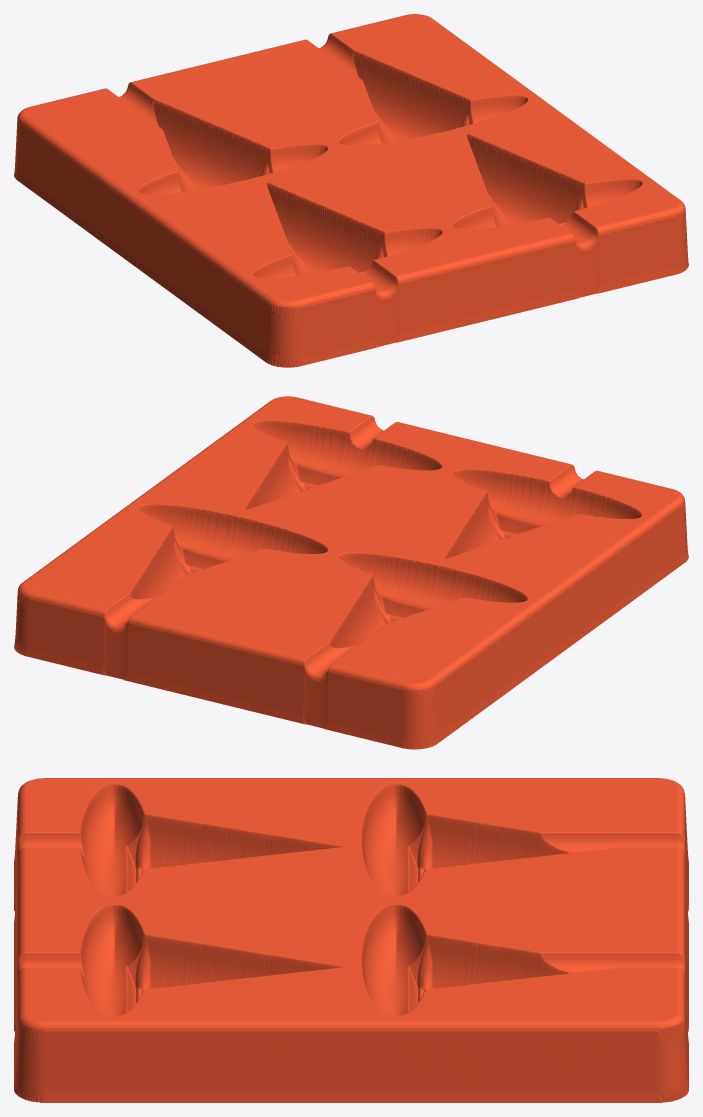
The model's file is mold.glb.
The picture shows the model from 3 angles, top to bottom: view 1: azimuth 30°, elevation 25°; view 2: azimuth 150°, elevation 25°; view 3: azimuth 270°, elevation 25°; orthographic projection. The views are drawn at different scales.
Parts seen in each view (by area): view 1: geometry_0; view 2: geometry_0; view 3: geometry_0.
Boxes of the visible parts, x1,y1,x2,y2 form: geometry_0: (14,14,688,367); geometry_0: (14,396,688,749); geometry_0: (14,778,688,1102).
Bounding box in the file's own units: 0.1726 × 0.0245 × 0.1951.
